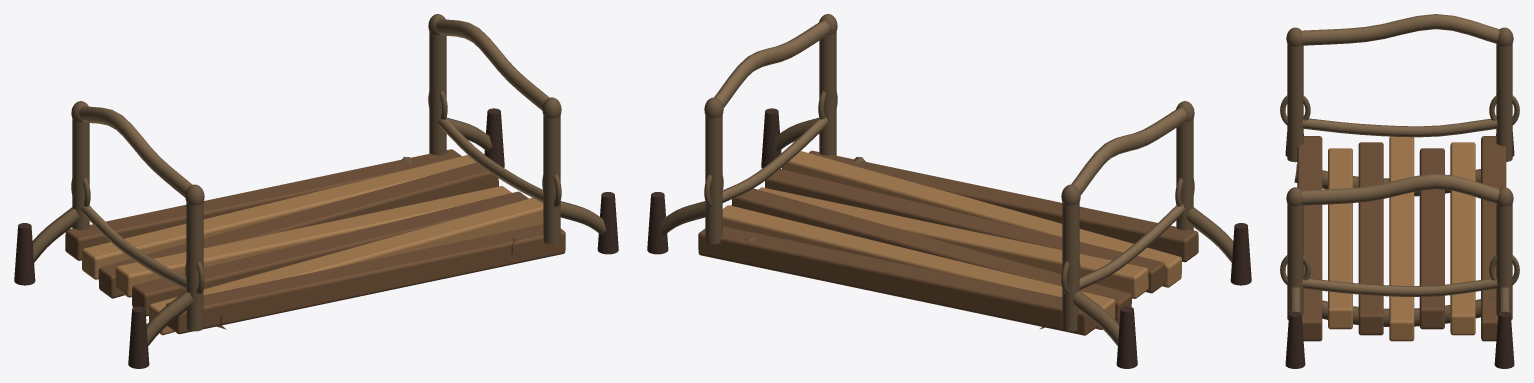
The model's file is extra_rope_bridge.glb.
3 renders of one model, left to right at view 1: azimuth 30°, elevation 25°; view 2: azimuth 150°, elevation 25°; view 3: azimuth 270°, elevation 25°, orthographic. The views are drawn at different scales.
Visible parts, largest first — view 1: wood, cloth; view 2: wood, cloth; view 3: wood, cloth.
Part boxes in pixels (x1=…): wood: x1=14, y1=14, x2=618, y2=368; cloth: x1=79, y1=18, x2=549, y2=289; wood: x1=647, y1=14, x2=1251, y2=368; cloth: x1=714, y1=21, x2=1186, y2=289; wood: x1=1280, y1=27, x2=1519, y2=368; cloth: x1=1301, y1=14, x2=1499, y2=296.
Size of the model in its own units: 2.8 by 1 by 1.3.
